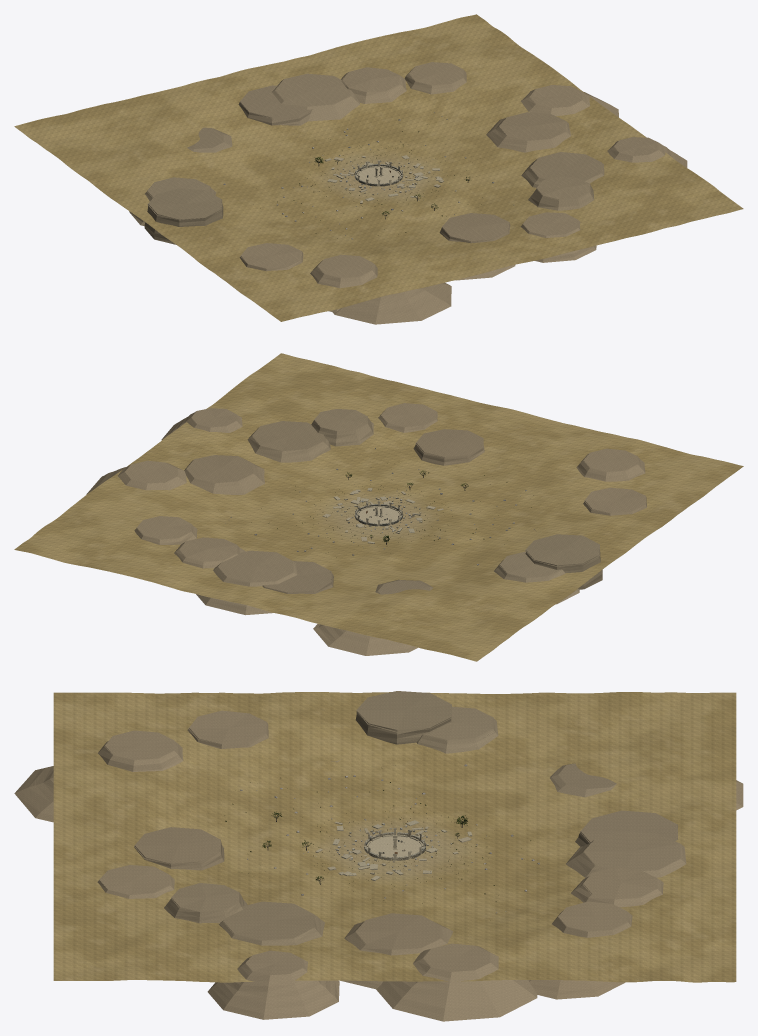
Rendered from gobeklitepe-d-yapisi-baked.glb.
3 views of the same model, one above another, from view 1: azimuth 30°, elevation 25°; view 2: azimuth 150°, elevation 25°; view 3: azimuth 270°, elevation 25° (orthographic). The views are drawn at different scales.
Parts seen in each view (by area): view 1: gobeklitepe-d-yapisi-terrain, gobeklitepe-d-yapisi-near, gobeklitepe-d-yapisi-detail, gobeklitepe-d-yapisi-ground; view 2: gobeklitepe-d-yapisi-terrain, gobeklitepe-d-yapisi-near, gobeklitepe-d-yapisi-detail, gobeklitepe-d-yapisi-ground; view 3: gobeklitepe-d-yapisi-terrain, gobeklitepe-d-yapisi-near, gobeklitepe-d-yapisi-detail, gobeklitepe-d-yapisi-ground, gobeklitepe-d-yapisi-flora.
Part boxes in pixels (<box>): gobeklitepe-d-yapisi-terrain: <box>14,14,743,321</box>; gobeklitepe-d-yapisi-near: <box>129,62,687,324</box>; gobeklitepe-d-yapisi-detail: <box>307,145,443,206</box>; gobeklitepe-d-yapisi-ground: <box>375,300,450,324</box>; gobeklitepe-d-yapisi-terrain: <box>14,353,743,661</box>; gobeklitepe-d-yapisi-near: <box>86,403,646,655</box>; gobeklitepe-d-yapisi-detail: <box>310,484,452,545</box>; gobeklitepe-d-yapisi-ground: <box>314,630,403,655</box>; gobeklitepe-d-yapisi-terrain: <box>53,692,736,982</box>; gobeklitepe-d-yapisi-near: <box>21,691,742,1021</box>; gobeklitepe-d-yapisi-detail: <box>311,809,488,888</box>; gobeklitepe-d-yapisi-ground: <box>14,769,743,817</box>; gobeklitepe-d-yapisi-flora: <box>224,764,539,913</box>.
Bounding box in the file's own units: 351 × 25.68 × 355.
Materials: 17 (12 with a texture image).
